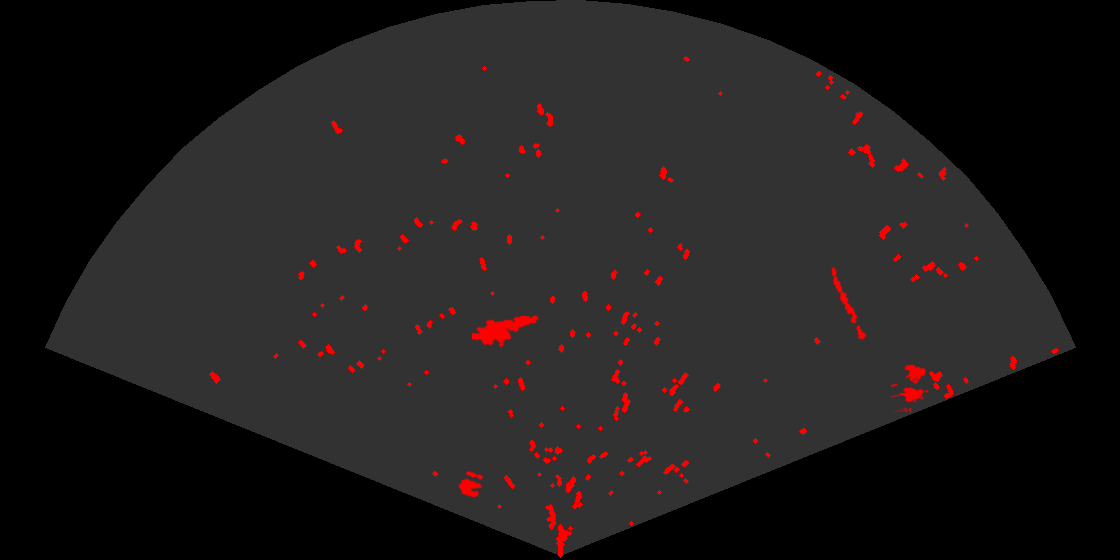ball: (457, 469, 485, 499)
cage: (891, 362, 930, 412)
chain: (830, 265, 869, 348)
frogman: (472, 313, 539, 349)
